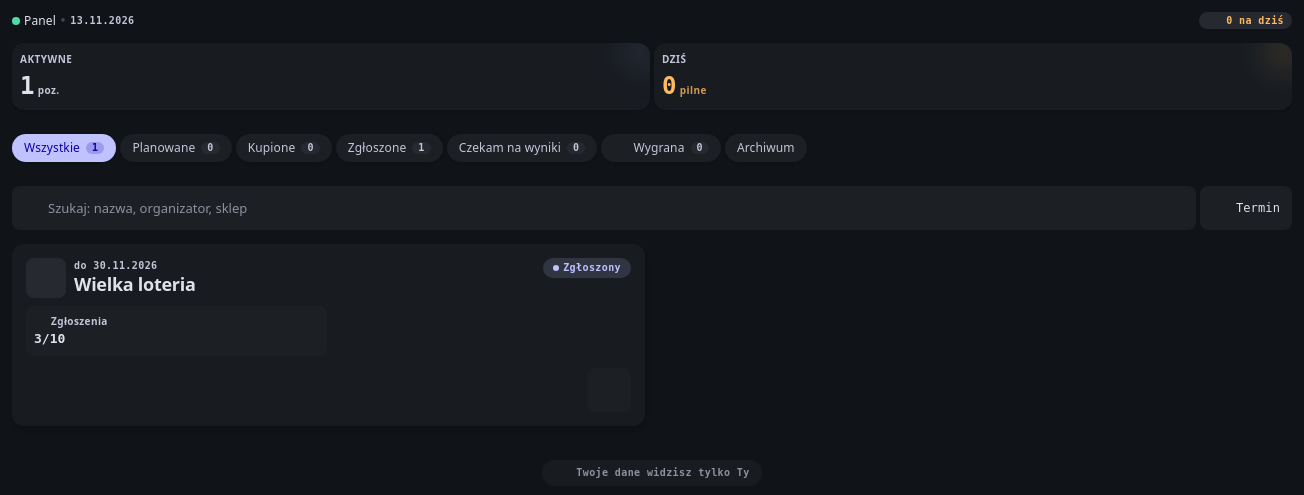
ContestsPage › sort button cycles through labels
This screenshot has width=1304, height=495.
What coordinates should you click on to do the following:
click the button "Termin"
I would click on:
 (1246, 208)
Its box is [1200,186,1292,230].
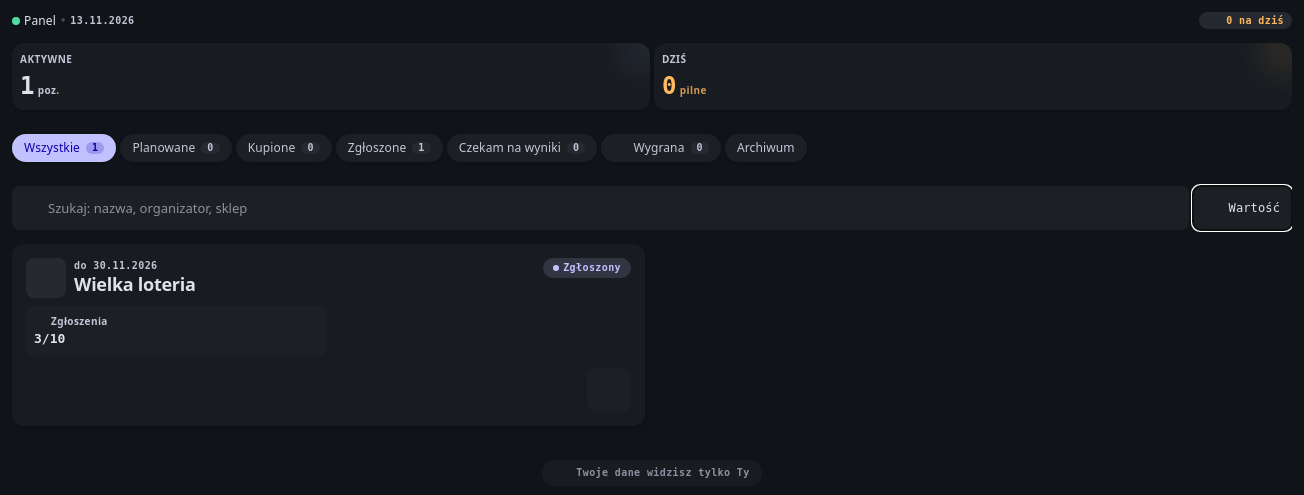
What coordinates should you click on to do the following:
click the button "Wartość"
I would click on:
 (1242, 208)
Its box is [1193,186,1292,230].
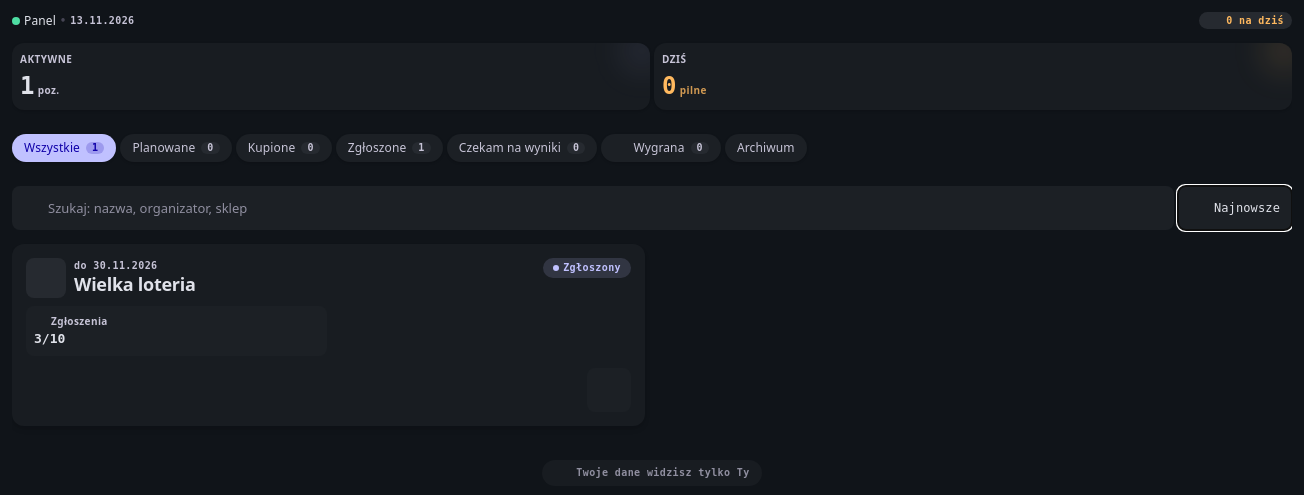
Check: the button "Najnowsze" is shown, box [1178,186,1292,230]
